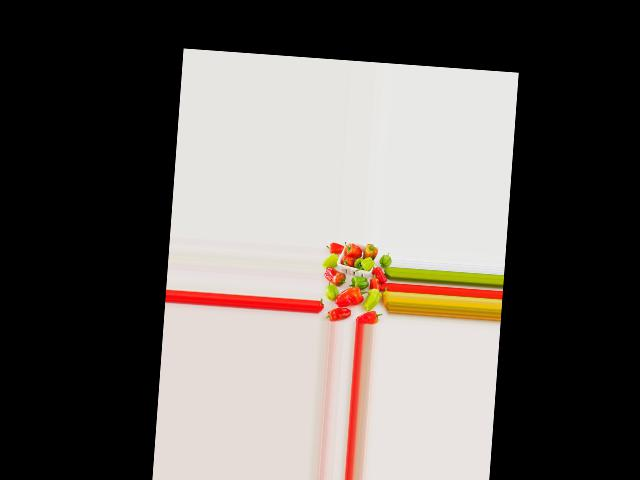bell_pepper: (359, 308, 383, 325)
